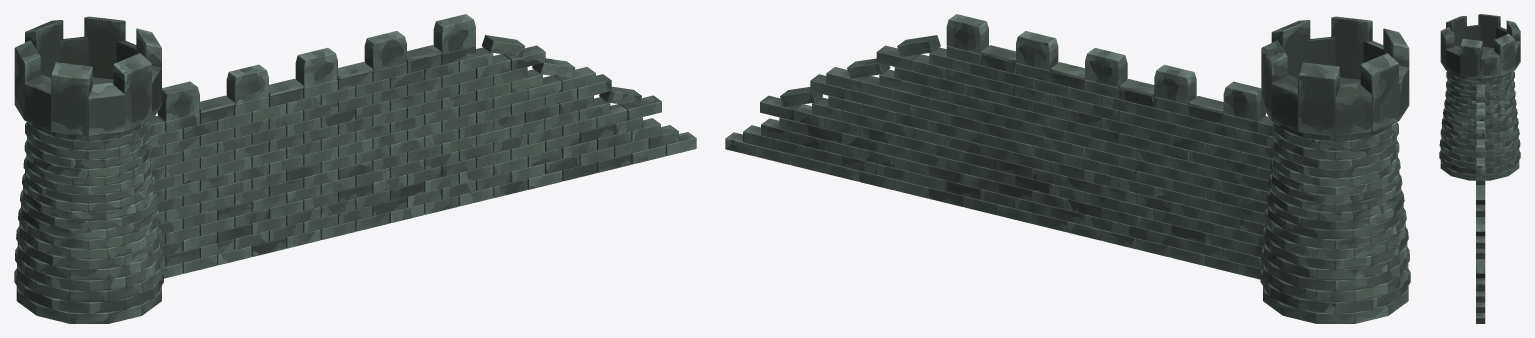
File: WallShaderTestfbx.fbx
The picture shows the model from 3 angles, left to right: view 1: azimuth 30°, elevation 25°; view 2: azimuth 150°, elevation 25°; view 3: azimuth 270°, elevation 25°; orthographic projection. The views are drawn at different scales.
Visible parts, largest first — view 1: Medieval end wall-3, Medieval Wall Tower.003; view 2: Medieval end wall-3, Medieval Wall Tower.003; view 3: Medieval Wall Tower.003, Medieval end wall-3.
Boxes of the visible parts, bbox=[...] form: Medieval end wall-3: bbox=[150, 14, 696, 278]; Medieval Wall Tower.003: bbox=[14, 16, 163, 323]; Medieval end wall-3: bbox=[725, 14, 1273, 279]; Medieval Wall Tower.003: bbox=[1260, 16, 1410, 323]; Medieval Wall Tower.003: bbox=[1439, 14, 1520, 180]; Medieval end wall-3: bbox=[1475, 84, 1485, 323].
Bounding box in the file's own units: 1809 × 650 × 351.
1 material, 1 textured.
